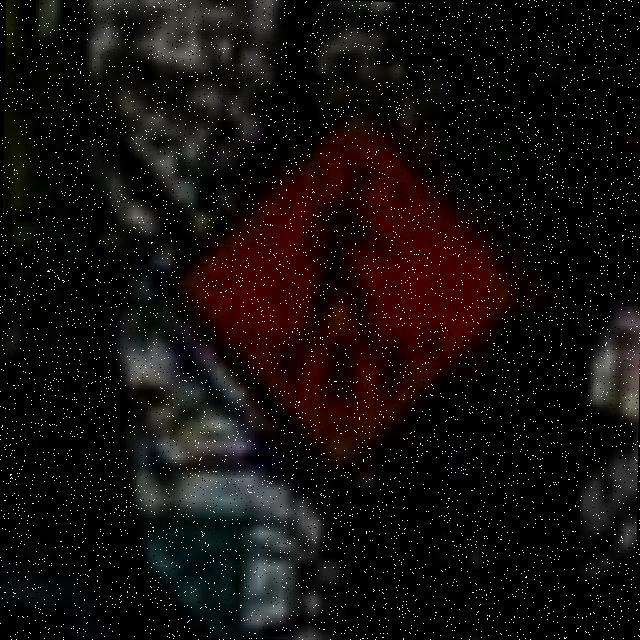Przejscie dla pieszych: (200, 116, 514, 449)
